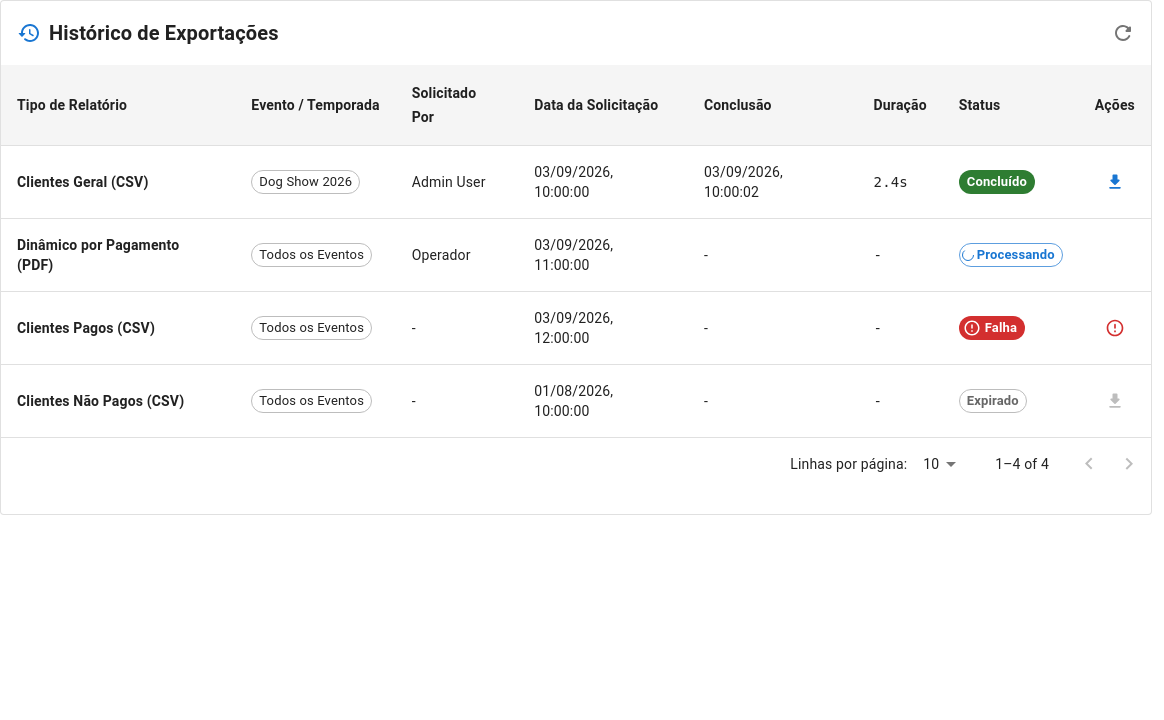
Scenario: ExportHistoryTable › displays expired error message in snackbar if download returns 410 Gone
Expected: the text "Clientes Geral (CSV)" is shown, [1,146,235,218]
Click the button with test id "DownloadRoundedIcon" at (1115, 182), box [1100,167,1130,197]
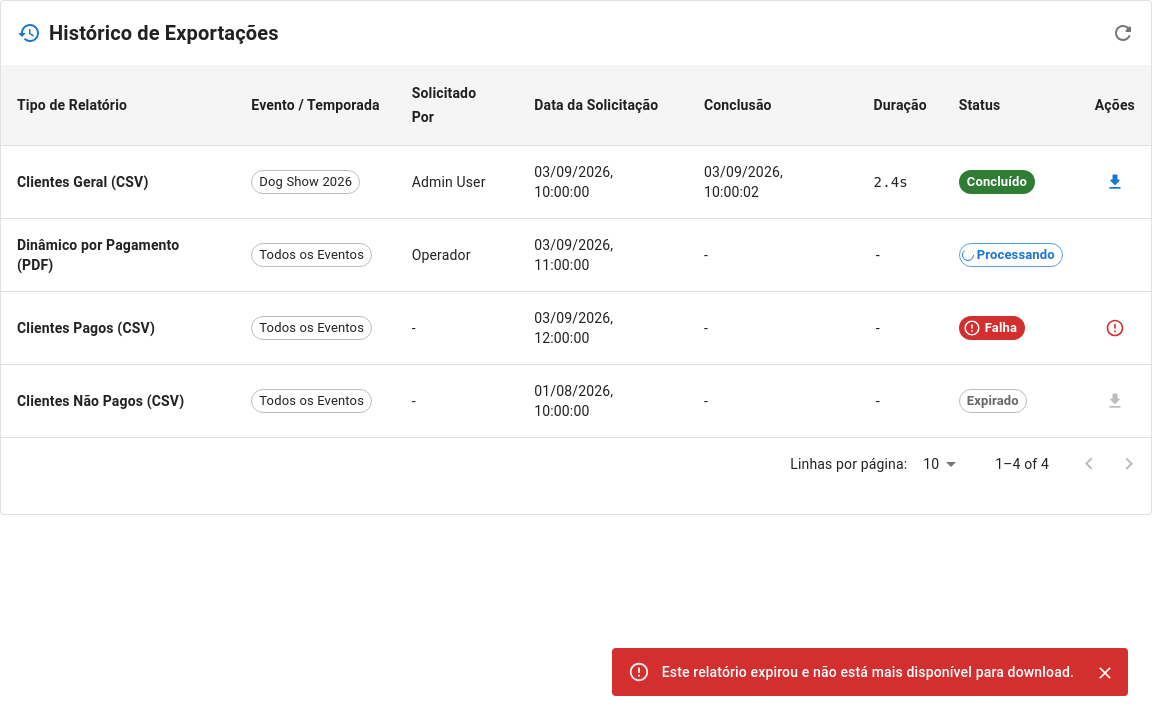
Now the text "Este relatório expirou e não está mais disponível para download." is shown, box [662,664,1074,680]
